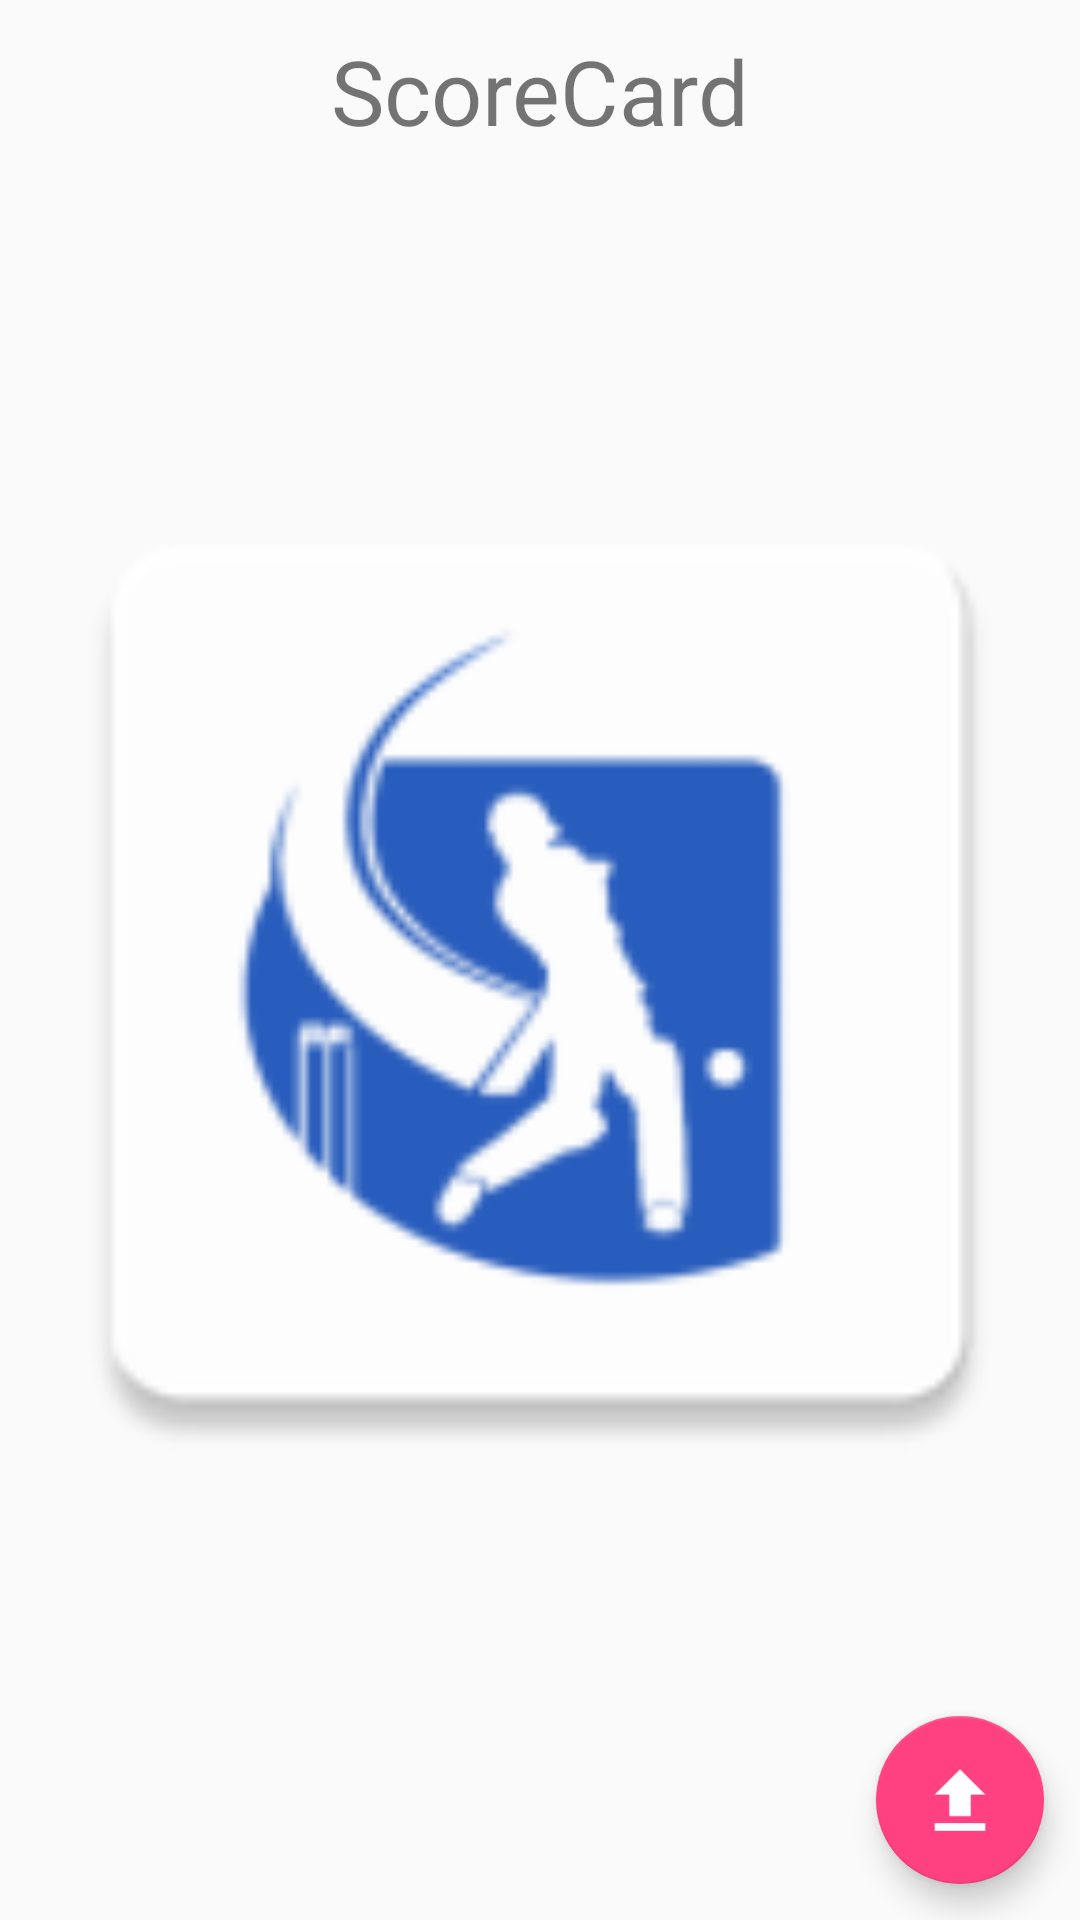

Icon bounding boxes for this 1080x1920 phone screenshot, format (x1, y1, x2, y2):
file upload: (876, 1716, 1044, 1884)
